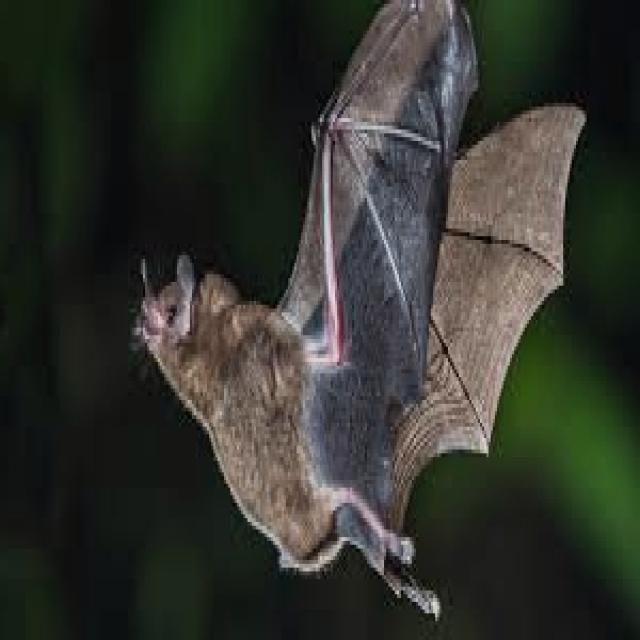bat: (134, 0, 585, 613)
